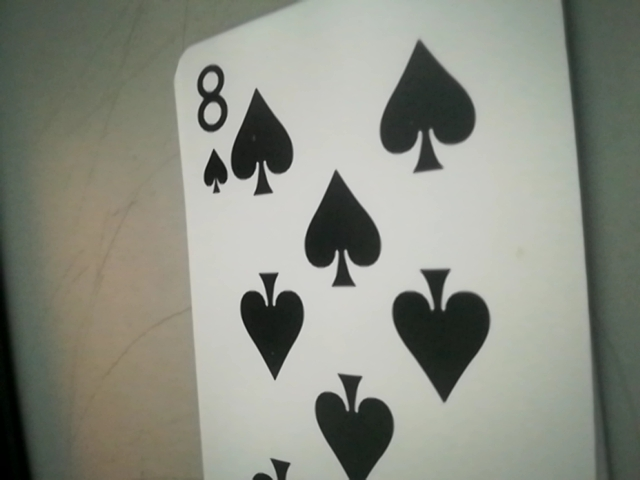ht 8: (184, 52, 249, 202)
